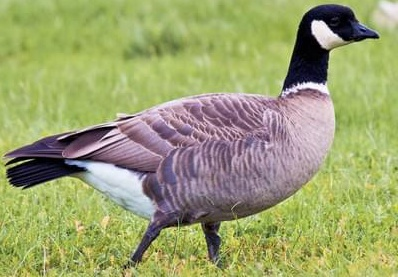goose: (4, 3, 388, 265)
